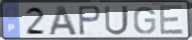2: (24, 6, 47, 36)
A: (48, 5, 80, 37)
E: (158, 4, 186, 37)
G: (132, 5, 157, 35)
P: (77, 5, 102, 37)
U: (103, 4, 130, 36)
